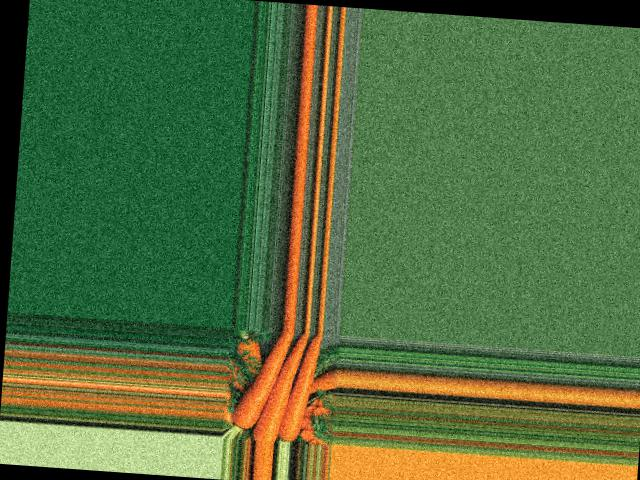carrot: (230, 330, 294, 430)
